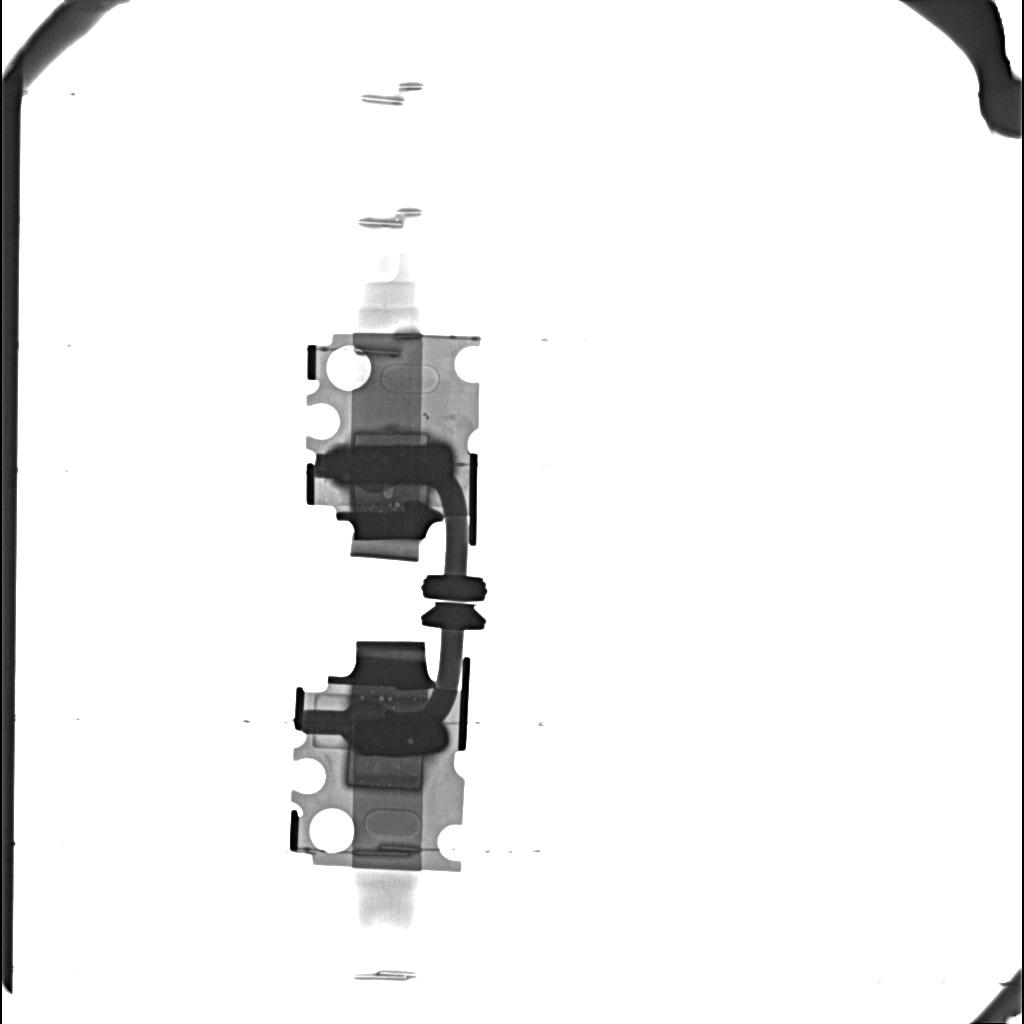PX: (346, 748, 424, 790), (353, 431, 431, 444)
QP: (383, 486, 395, 499), (379, 696, 384, 701)
SX: (330, 445, 451, 486), (344, 711, 447, 756)
